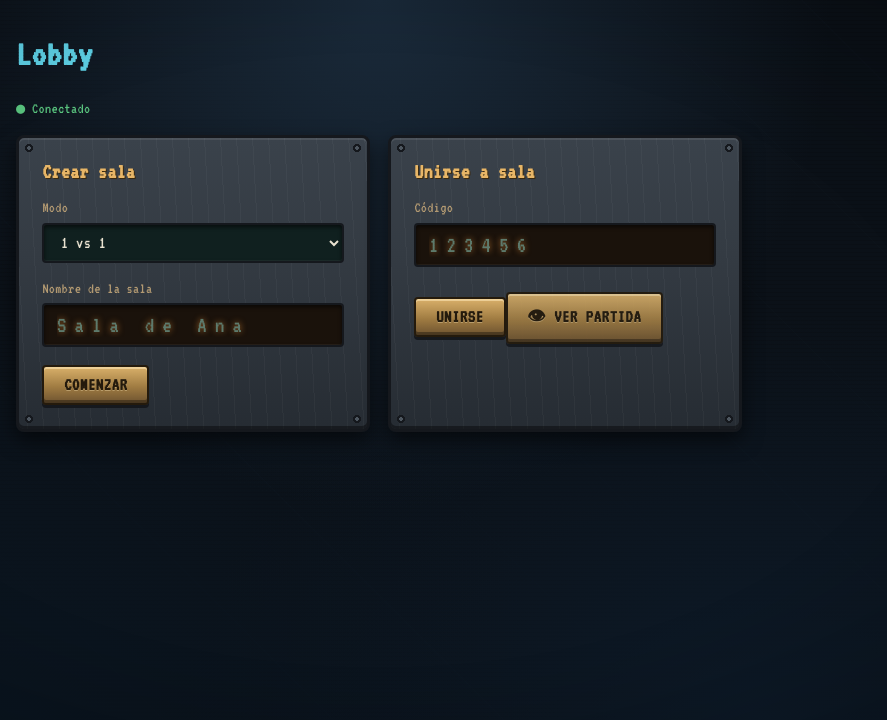
Test case: LobbyPage — crear y unirse a sala › unirse con un código incompleto muestra el error de código inválido
Type "12" into the field with placeholder "123456".
click(565, 245); type("12")  # box [414, 223, 716, 267]
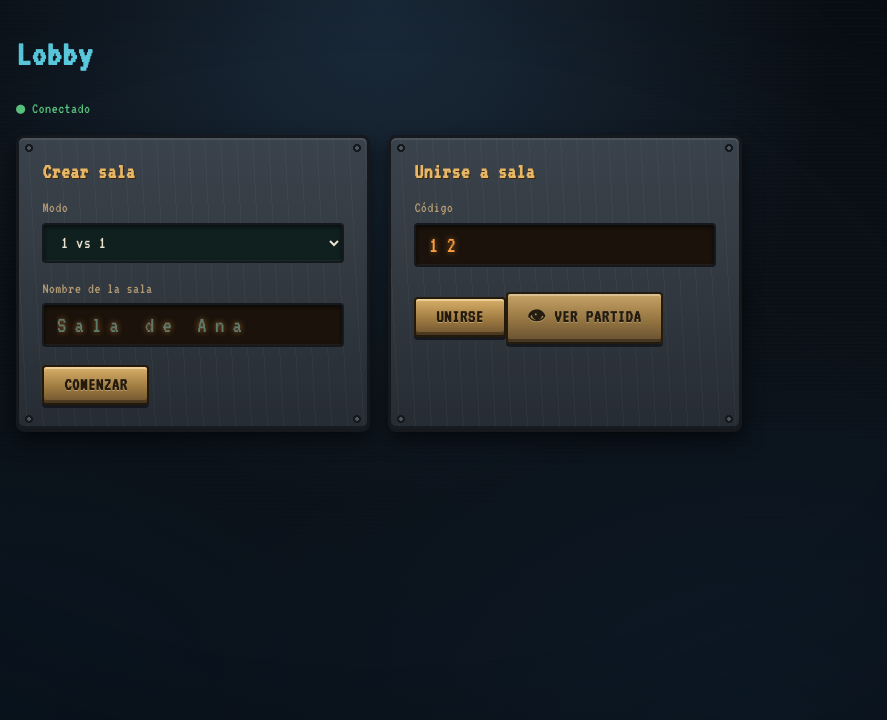
Click the button "Unirse".
click(460, 317)  # box [414, 297, 506, 337]
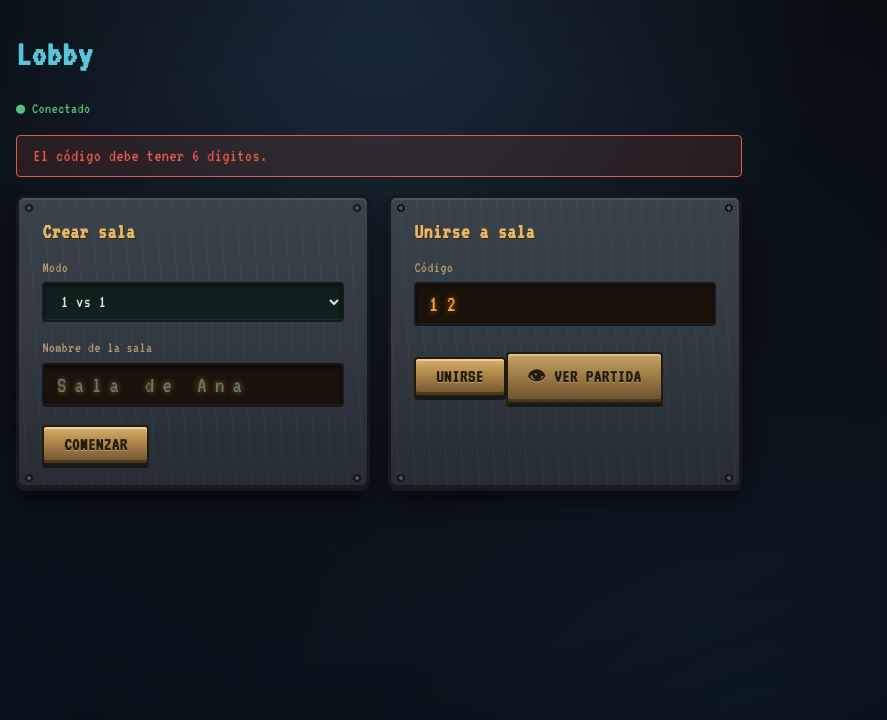
Expected: the message reads "El código debe tener 6 dígitos.", [33, 147, 268, 165]
